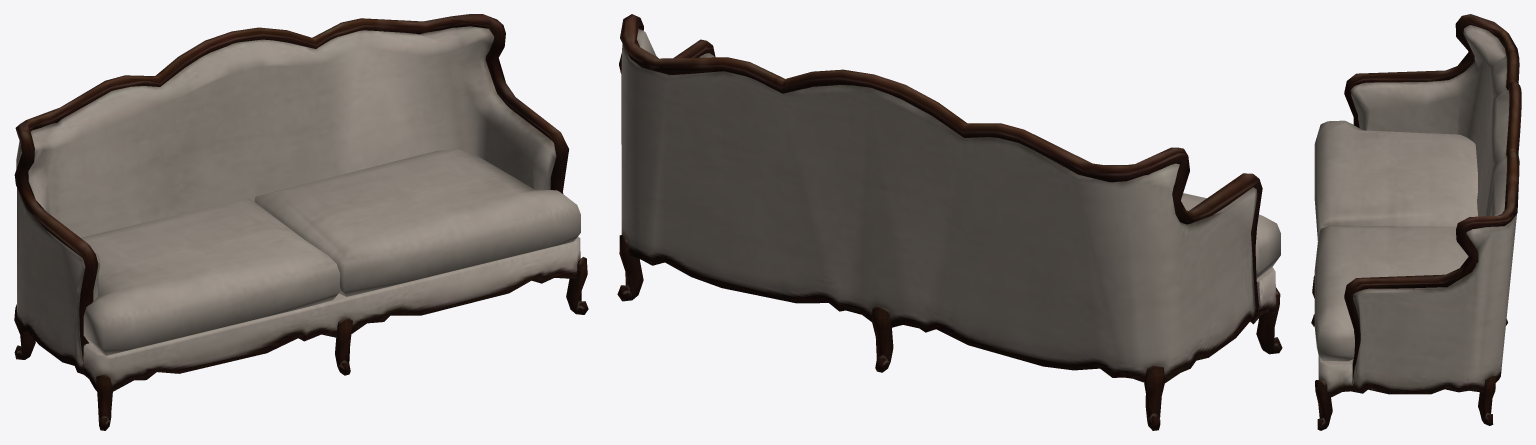
File: sofa_club.glb
3 views of the same model, side by side, from view 1: azimuth 30°, elevation 25°; view 2: azimuth 150°, elevation 25°; view 3: azimuth 270°, elevation 25° (orthographic). The views are drawn at different scales.
Visible parts, largest first — view 1: Sofa_01; view 2: Sofa_01; view 3: Sofa_01.
Part boxes in pixels (x1=…): Sofa_01: x1=14, y1=14, x2=588, y2=430; Sofa_01: x1=617, y1=14, x2=1282, y2=430; Sofa_01: x1=1311, y1=14, x2=1521, y2=430.
Bounding box in the file's own units: 1.57 × 0.7954 × 0.6579.
1 material, 1 textured.
